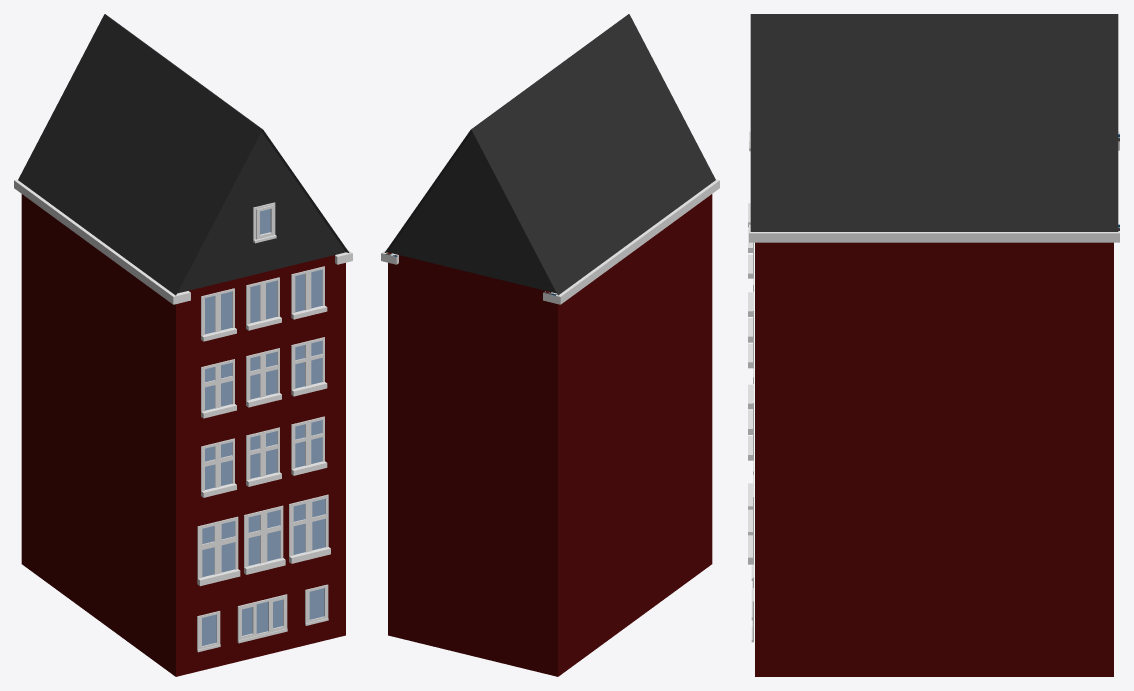
The model's file is Huis_4.2.fbx.
3 views of the same model, side by side, from view 1: azimuth 30°, elevation 25°; view 2: azimuth 150°, elevation 25°; view 3: azimuth 270°, elevation 25° (orthographic). The views are drawn at different scales.
Parts seen in each view (by area): view 1: Plane; view 2: Plane; view 3: Plane.
Part boxes in pixels (bbox=[...]): Plane: bbox=[14, 14, 352, 676]; Plane: bbox=[381, 14, 719, 676]; Plane: bbox=[748, 14, 1119, 676].
Size of the model in its own units: 139 by 391 by 214.
Materials: 1 (1 with a texture image).
